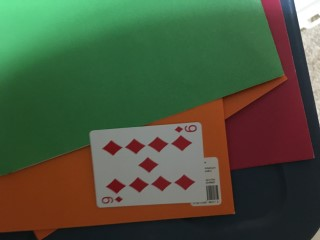NineOfDiamonds: (89, 122, 207, 209)
